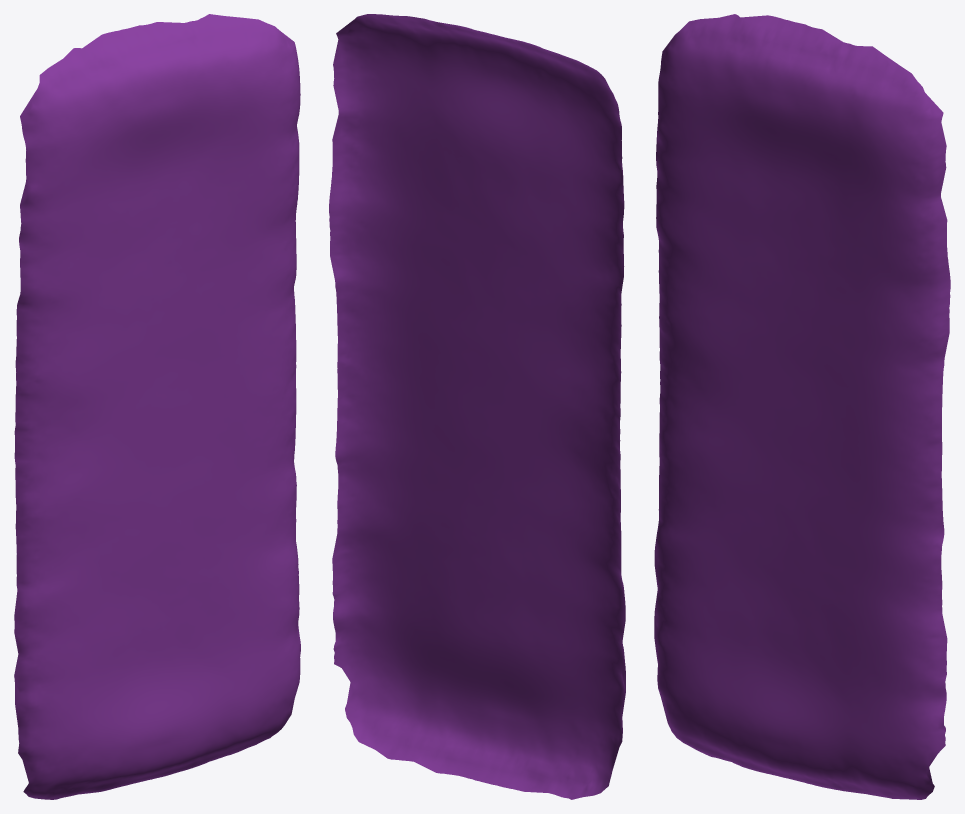
File: real_soda_can_SFHC.glb
3 renders of one model, left to right at view 1: azimuth 30°, elevation 25°; view 2: azimuth 150°, elevation 25°; view 3: azimuth 330°, elevation 25°, orthographic.
Visible parts, largest first — view 1: result-20260104_143959-soda_can-baseline; view 2: result-20260104_143959-soda_can-baseline; view 3: result-20260104_143959-soda_can-baseline.
Boxes of the visible parts, x1,y1,x2,y2 form: result-20260104_143959-soda_can-baseline: (14,14,300,799); result-20260104_143959-soda_can-baseline: (329,14,625,799); result-20260104_143959-soda_can-baseline: (654,14,950,799).
Bounding box in the file's own units: 0.6818 × 1.7 × 0.101.
